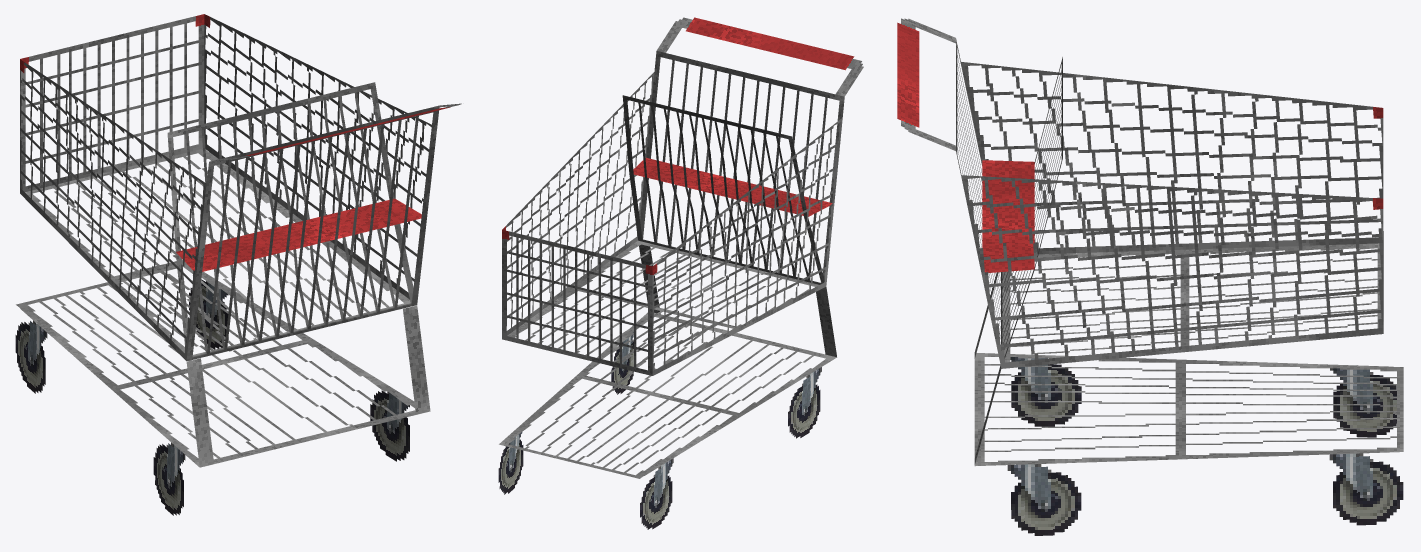
File: psx_shopping_cart.glb
The picture shows the model from 3 angles, left to right: view 1: azimuth 30°, elevation 25°; view 2: azimuth 150°, elevation 25°; view 3: azimuth 270°, elevation 25°; orthographic projection. The views are drawn at different scales.
Visible parts, largest first — view 1: cart_0; view 2: cart_0; view 3: cart_0.
Part boxes in pixels (box(x1,y1,x2,y2)): cart_0: box(15, 14, 461, 515); cart_0: box(498, 17, 863, 529); cart_0: box(897, 18, 1403, 535).
Bounding box in the file's own units: 0.625 × 1.06 × 1.19.
1 material, 1 textured.
